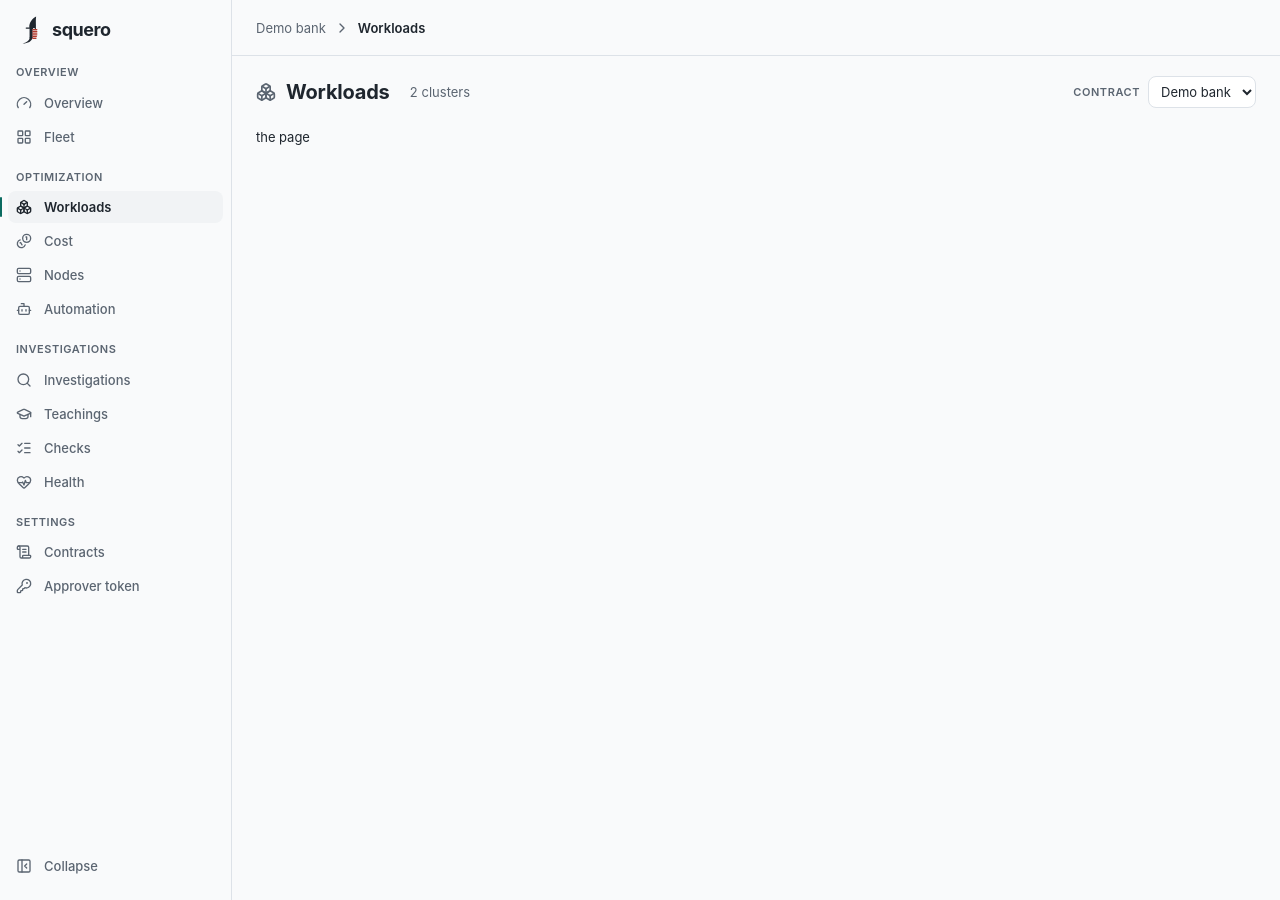
Test: a browser that refuses storage still opens the sidebar
The width and height of the screenshot is (1280, 900).
Click the button with aria-label "Collapse the sidebar".
click(116, 866)  # box [8,848,223,884]
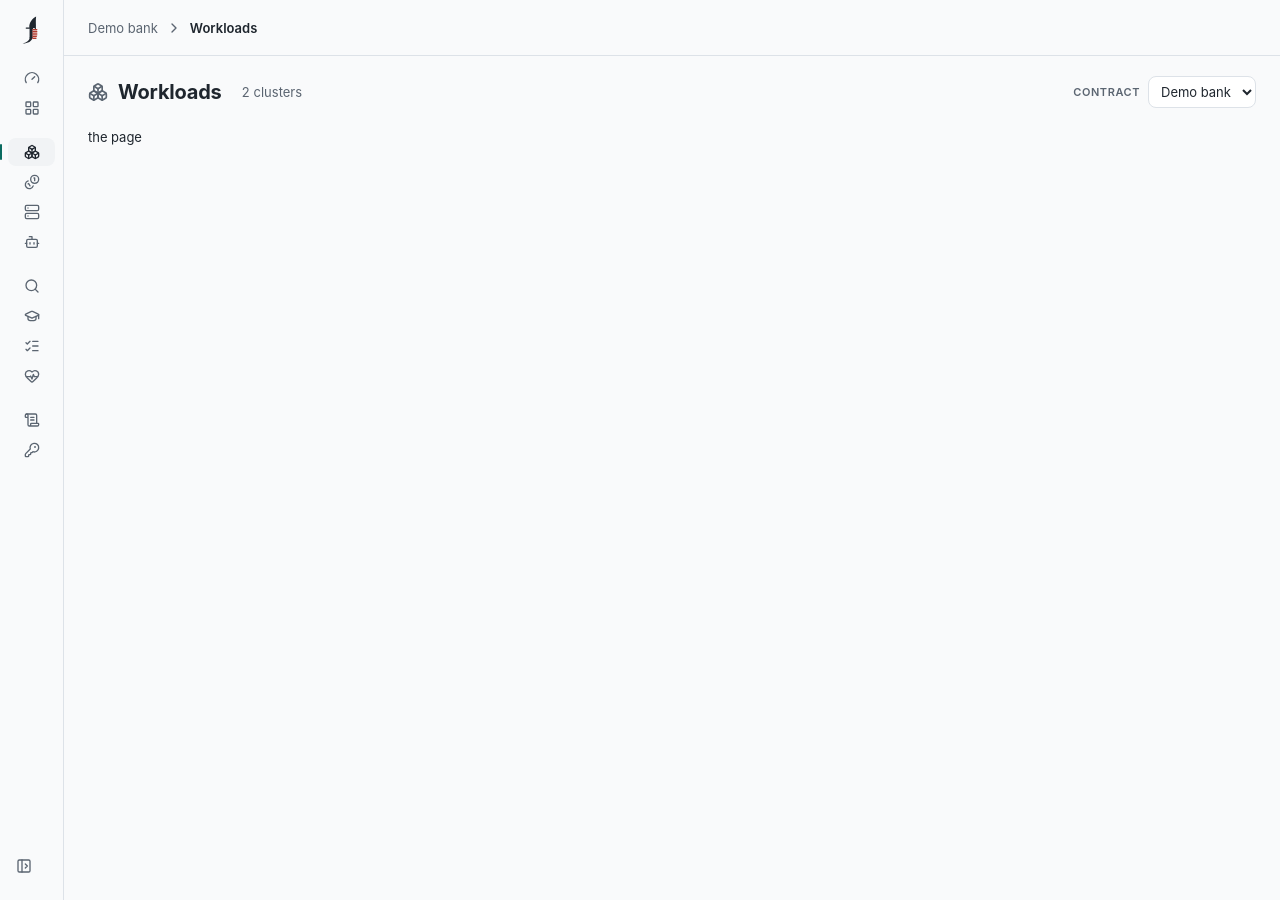
Result: the button named "Open the sidebar" is shown at [8,848,55,884]
